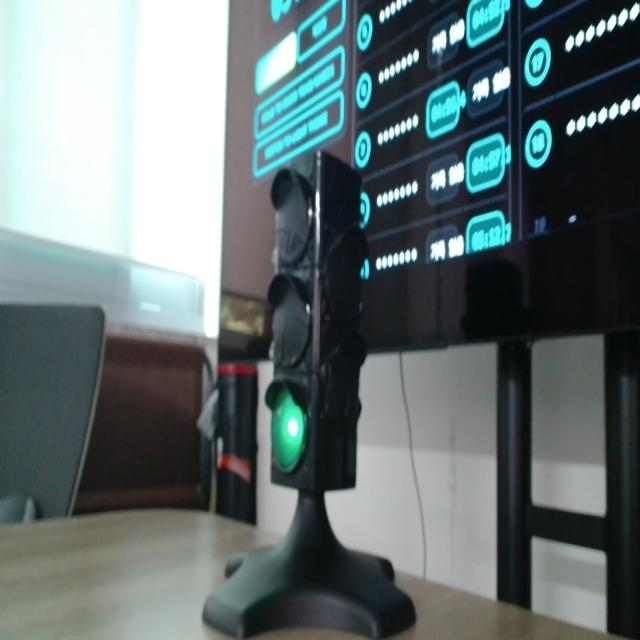green_light: (272, 389, 305, 471)
